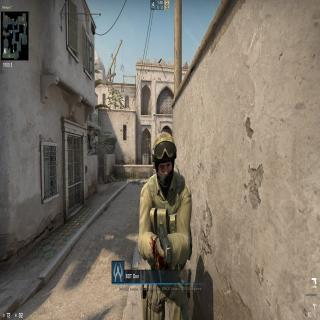CT-Head: (150, 130, 178, 190)
